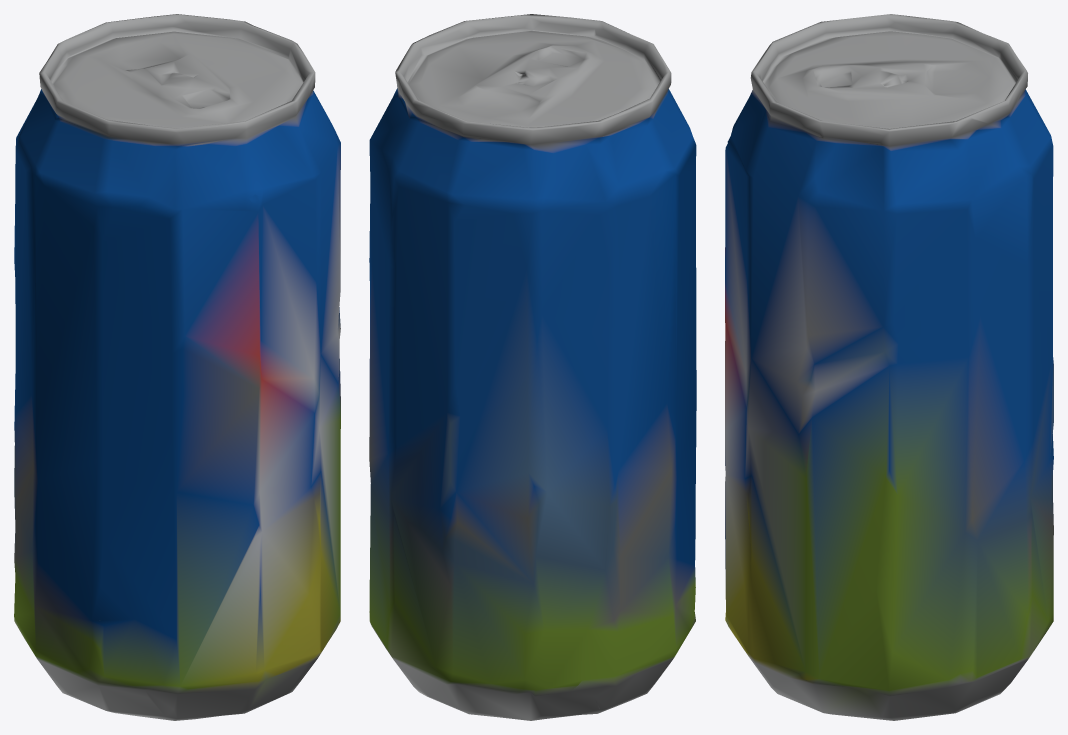
The model's file is gen3d-energy-drink-lod1.glb.
3 renders of one model, left to right at view 1: azimuth 30°, elevation 25°; view 2: azimuth 150°, elevation 25°; view 3: azimuth 270°, elevation 25°, orthographic.
Visible parts, largest first — view 1: part_0; view 2: part_0; view 3: part_0.
Part boxes in pixels (x1,y1,x2,y2): part_0: (14,14,340,720); part_0: (369,14,696,720); part_0: (725,14,1053,720).
Size of the model in its own units: 0.5016 by 0.9999 by 0.5015.
